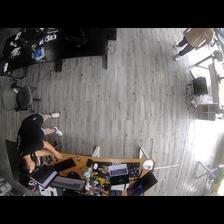normal: (16, 112, 64, 173), (172, 27, 216, 62)
